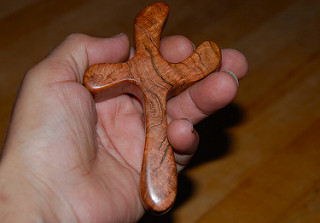palm: (32, 82, 155, 216)
